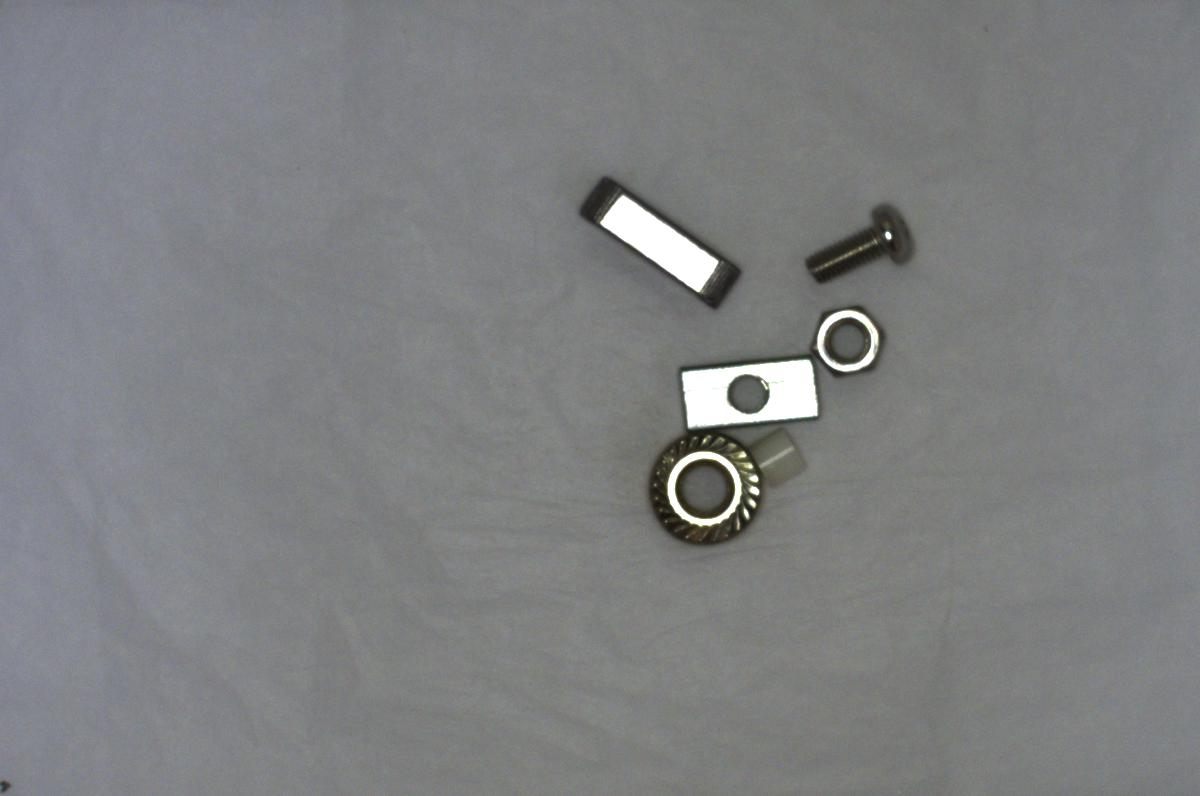Flange nut: (641, 430, 773, 550)
Hexagon nut: (814, 298, 892, 377)
Keybar: (569, 168, 747, 310)
Plastic cushion pillar: (744, 423, 815, 495)
Rectangular nut: (669, 348, 826, 439)
Round head screw: (800, 191, 929, 291)
